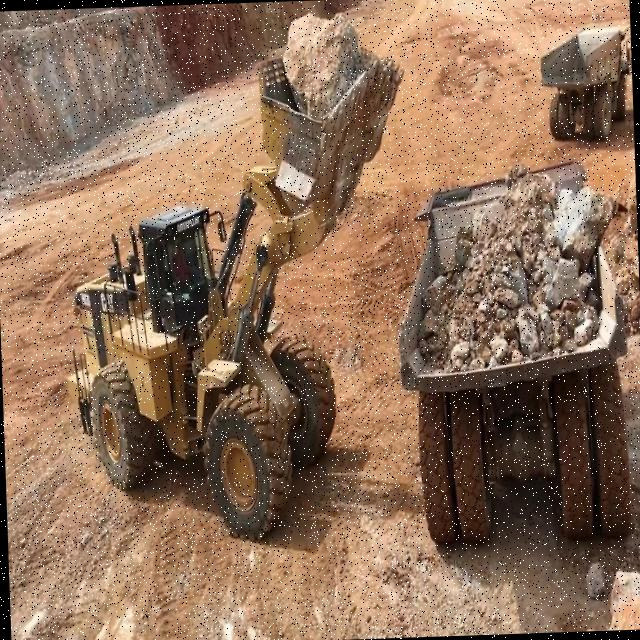Dump Truck: (390, 150, 639, 552), (536, 19, 634, 144)
Loader: (57, 34, 423, 550)
